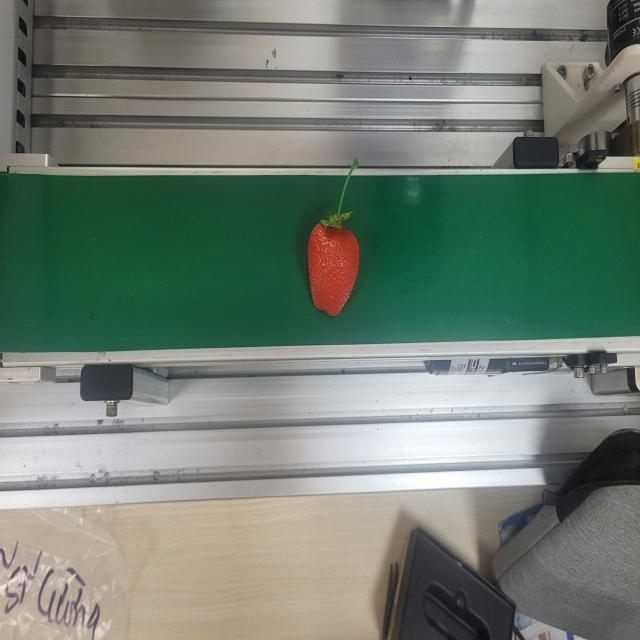Large Ripe Strawberry: (306, 213, 361, 319)
conveyor: (0, 163, 639, 364)
